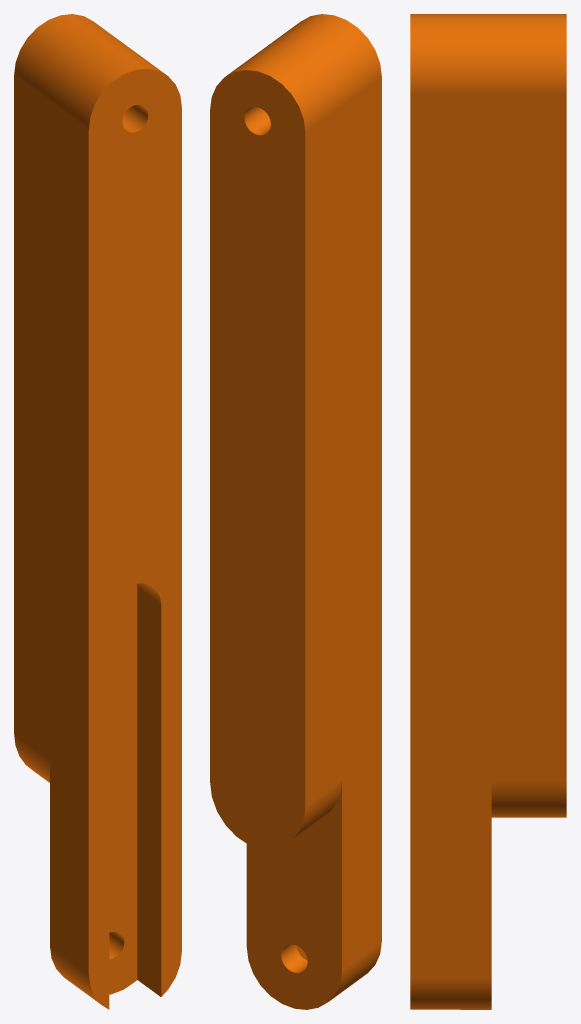
Rendered from outer_pitch_front.dae.
3 views of the same model, side by side, from view 1: azimuth 30°, elevation 25°; view 2: azimuth 150°, elevation 25°; view 3: azimuth 270°, elevation 25° (orthographic). The views are drawn at different scales.
Parts seen in each view (by area): view 1: Actor0; view 2: Actor0; view 3: Actor0.
Boxes of the visible parts, x1,y1,x2,y2 form: Actor0: (14, 14, 181, 1009); Actor0: (210, 14, 381, 1009); Actor0: (410, 14, 566, 1009).
Bounding box in the file's own units: 0.018 × 0.1739 × 0.025.
